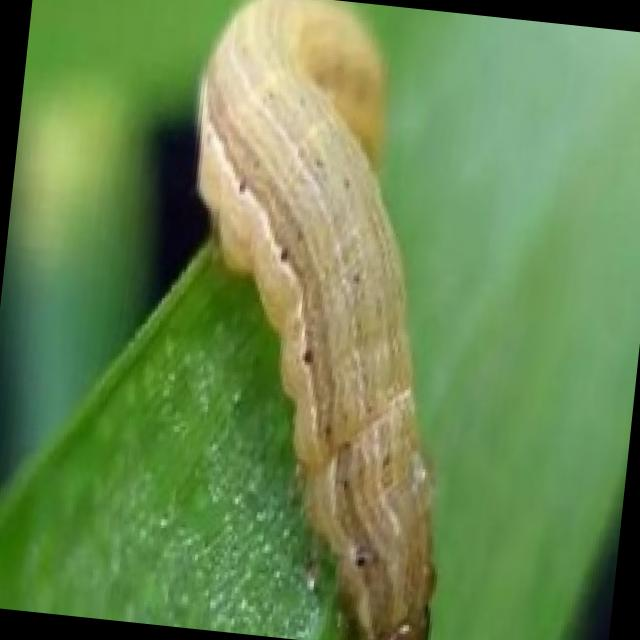armyworm: (122, 1, 530, 640)
